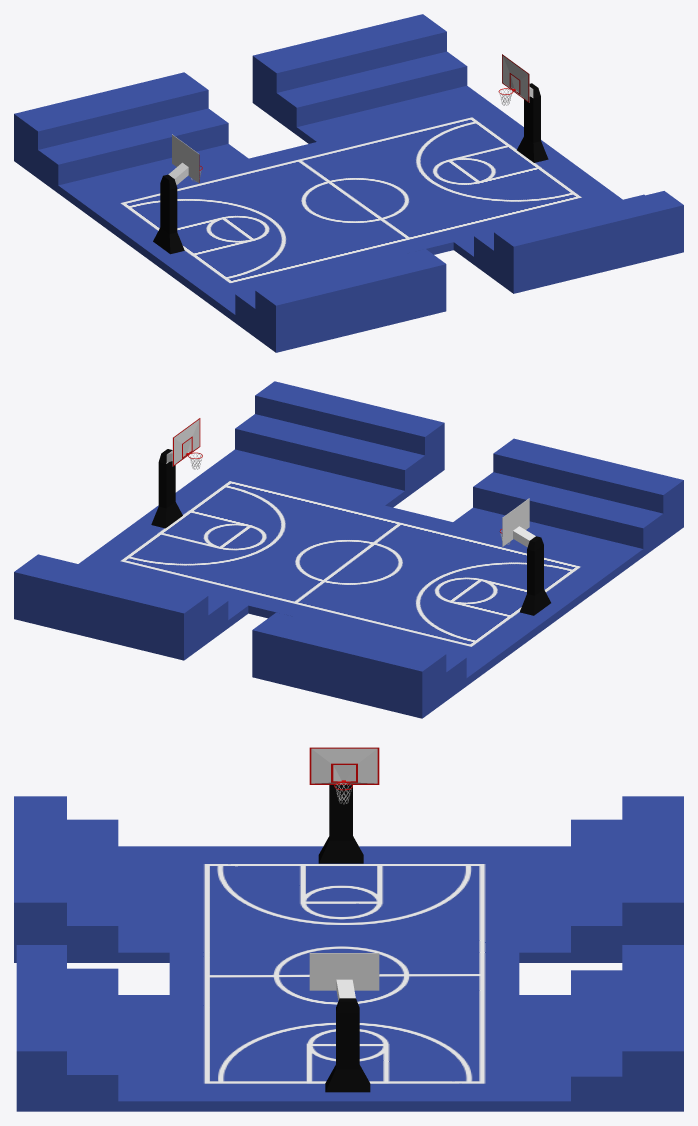
Rendered from Court.fbx.
3 views of the same model, one above another, from view 1: azimuth 30°, elevation 25°; view 2: azimuth 150°, elevation 25°; view 3: azimuth 270°, elevation 25° (orthographic). The views are drawn at different scales.
Visible parts, largest first — view 1: Plane, Basketball Base.001, Basketball Base; view 2: Plane, Basketball Base.001, Basketball Base; view 3: Plane, Basketball Base, Basketball Base.001.
Boxes of the visible parts, box(x1,y1,x2,y2) form: Plane: box(14, 14, 683, 352); Basketball Base.001: box(153, 134, 199, 254); Basketball Base: box(502, 54, 548, 162); Plane: box(14, 381, 683, 718); Basketball Base.001: box(502, 498, 550, 615); Basketball Base: box(151, 418, 200, 528); Plane: box(14, 796, 683, 1111); Basketball Base: box(309, 953, 379, 1092); Basketball Base.001: box(309, 747, 379, 863).
Size of the model in its own units: 2934 by 716 by 3257.
